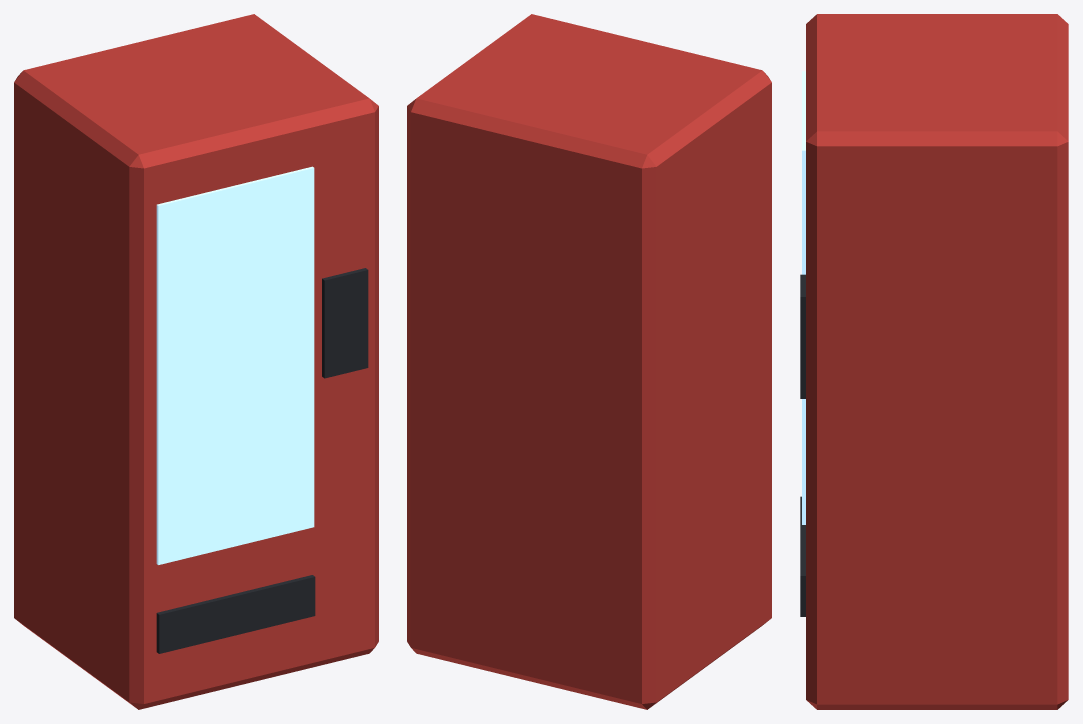
The model's file is vending.glb.
3 renders of one model, left to right at view 1: azimuth 30°, elevation 25°; view 2: azimuth 150°, elevation 25°; view 3: azimuth 270°, elevation 25°, orthographic. The views are drawn at different scales.
Visible parts, largest first — view 1: vending_mesh; view 2: vending_mesh; view 3: vending_mesh.
Boxes of the visible parts, x1,y1,x2,y2 form: vending_mesh: (14,14,378,709); vending_mesh: (407,14,771,709); vending_mesh: (800,14,1068,709).
Size of the model in its own units: 0.8 by 1.7 by 0.715.
